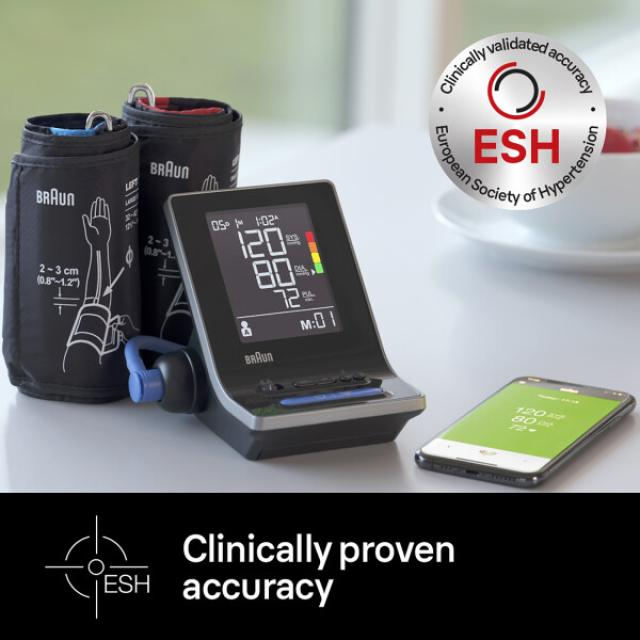dia: (244, 252, 302, 291)
pul: (267, 283, 308, 313)
ssd: (205, 184, 345, 359)
sys: (230, 218, 301, 261)
